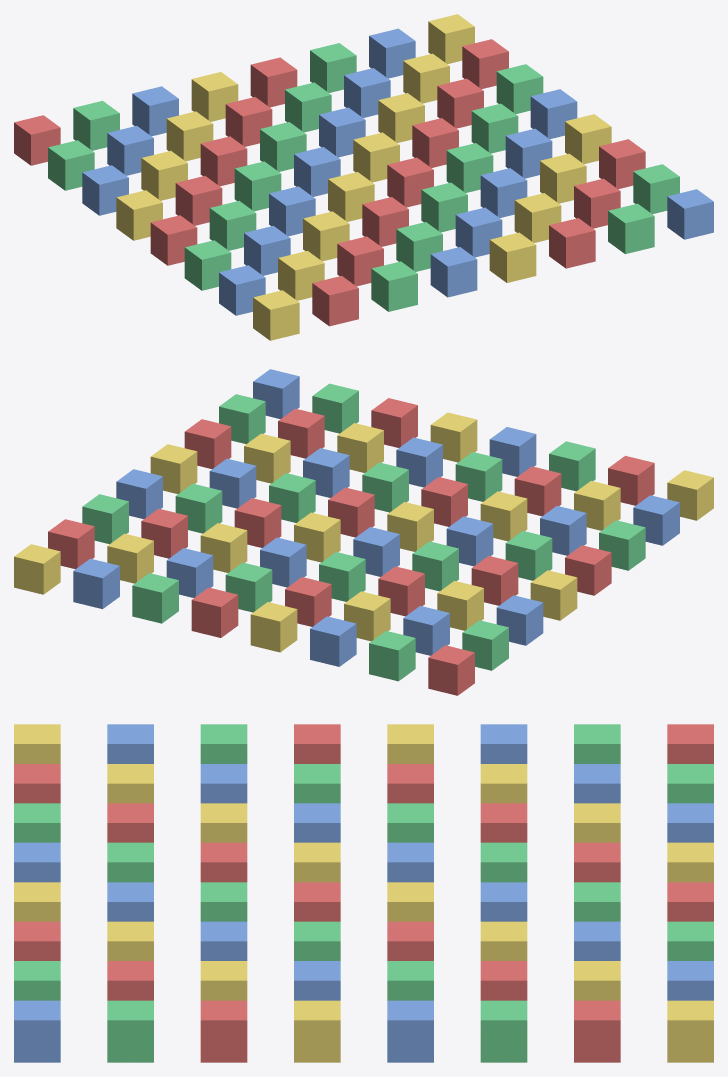
File: stress_grid.gltf
3 renders of one model, top to bottom at view 1: azimuth 30°, elevation 25°; view 2: azimuth 150°, elevation 25°; view 3: azimuth 270°, elevation 25°, orthographic. The views are drawn at different scales.
Visible parts, largest first — view 1: cube_3_7, cube_4_7, cube_0_7, cube_1_7, cube_5_7, cube_2_7, cube_6_7, cube_7_7, cube_0_4, cube_0_5, cube_0_3, cube_0_2 (+52 smaller); view 2: cube_3_0, cube_4_0, cube_0_0, cube_1_0, cube_5_0, cube_2_0, cube_6_0, cube_7_0, cube_0_3, cube_0_2, cube_0_4, cube_0_5 (+52 smaller); view 3: cube_7_2, cube_7_5, cube_7_0, cube_7_1, cube_7_3, cube_7_4, cube_7_6, cube_7_7, cube_3_2, cube_3_5, cube_3_0, cube_3_1 (+52 smaller).
Part boxes in pixels (bbox=[...]): cube_3_7: bbox=[430, 247, 477, 297]; cube_4_7: bbox=[489, 232, 536, 282]; cube_0_7: bbox=[253, 290, 299, 340]; cube_1_7: bbox=[312, 276, 358, 326]; cube_5_7: bbox=[549, 218, 595, 268]; cube_2_7: bbox=[371, 261, 417, 311]; cube_6_7: bbox=[608, 203, 654, 254]; cube_7_7: bbox=[667, 189, 713, 239]; cube_0_4: bbox=[150, 215, 197, 265]; cube_0_5: bbox=[184, 240, 231, 290]; cube_0_3: bbox=[116, 190, 162, 240]; cube_0_2: bbox=[82, 165, 128, 215]; cube_3_0: bbox=[250, 602, 297, 652]; cube_4_0: bbox=[191, 587, 238, 637]; cube_0_0: bbox=[428, 645, 474, 695]; cube_1_0: bbox=[369, 631, 415, 681]; cube_5_0: bbox=[132, 573, 178, 623]; cube_2_0: bbox=[310, 616, 356, 666]; cube_6_0: bbox=[73, 558, 119, 609]; cube_7_0: bbox=[14, 544, 60, 594]; cube_0_3: bbox=[530, 570, 577, 620]; cube_0_2: bbox=[496, 595, 543, 645]; cube_0_4: bbox=[565, 545, 611, 595]; cube_0_5: bbox=[599, 520, 645, 570]; cube_7_2: bbox=[480, 1000, 527, 1062]; cube_7_5: bbox=[200, 1000, 247, 1062]; cube_7_0: bbox=[667, 1000, 713, 1062]; cube_7_1: bbox=[574, 1000, 620, 1062]; cube_7_3: bbox=[387, 1000, 433, 1062]; cube_7_4: bbox=[294, 1000, 340, 1062]; cube_7_6: bbox=[107, 1000, 153, 1062]; cube_7_7: bbox=[14, 1000, 60, 1062]; cube_3_2: bbox=[480, 842, 527, 882]; cube_3_5: bbox=[200, 842, 247, 882]; cube_3_0: bbox=[667, 842, 713, 882]; cube_3_1: bbox=[574, 842, 620, 882].
Bounding box in the file's own units: 15 × 1 × 15.
